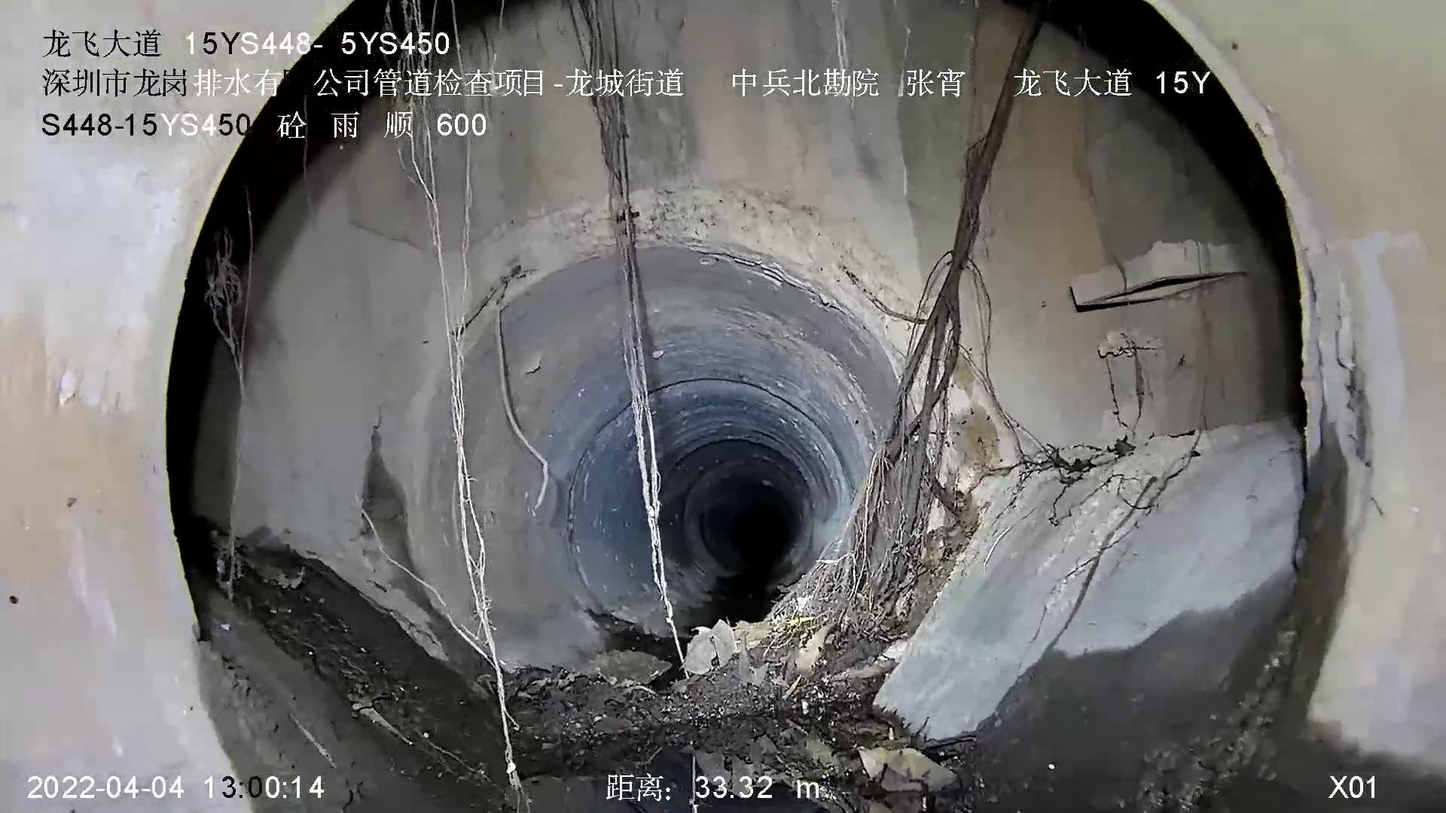SG: (375, 0, 1040, 812)
